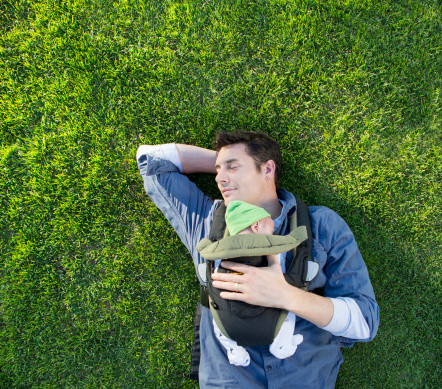deitado: (152, 130, 372, 389)
